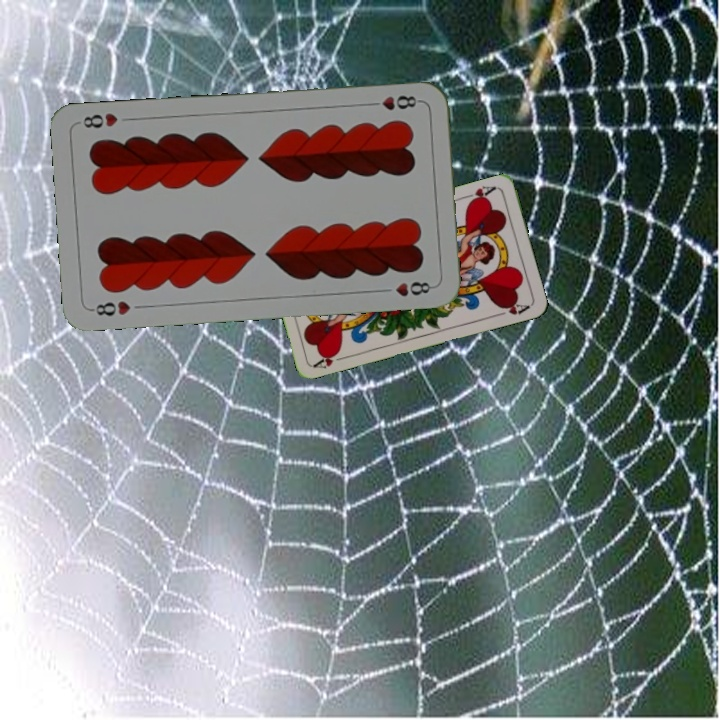H8: (364, 91, 423, 113), (87, 296, 133, 319)
HA: (310, 347, 350, 371), (460, 182, 499, 206)
